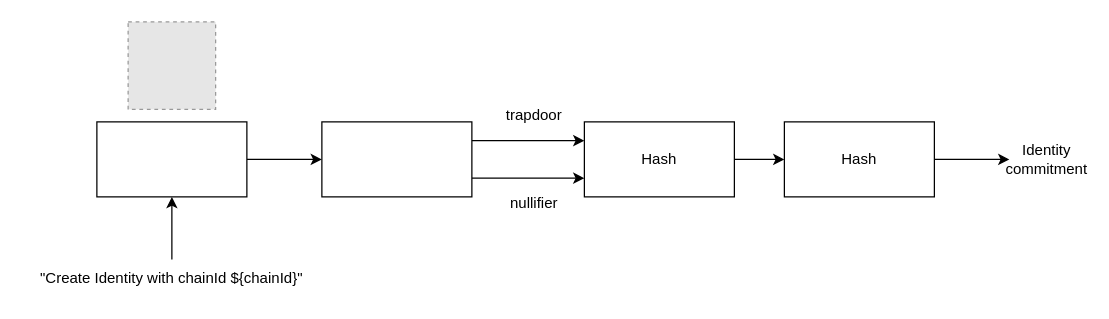
This 1109x319 diagram has some shape labels left out. Grey dashed boxes stand in for pictures. Here are the shapes that lost their labels. From the top down, the centre of each, then its label:
pixel 171 159: Sign a message with private key
pixel 396 159: Generate Identity
